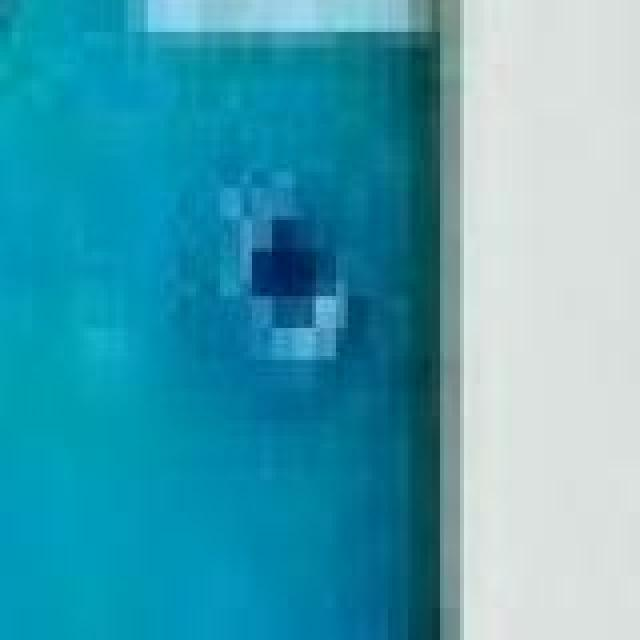switch: (312, 0, 640, 640)
